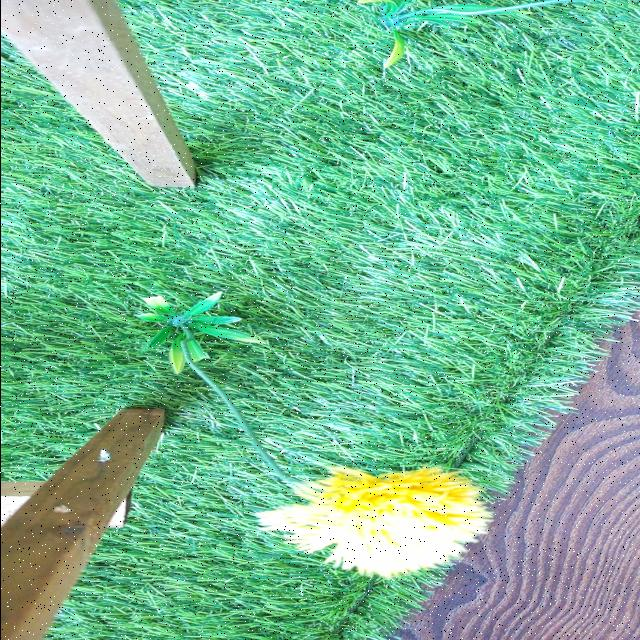base: (350, 0, 532, 67), (136, 293, 266, 373)
flower: (252, 469, 490, 578)
